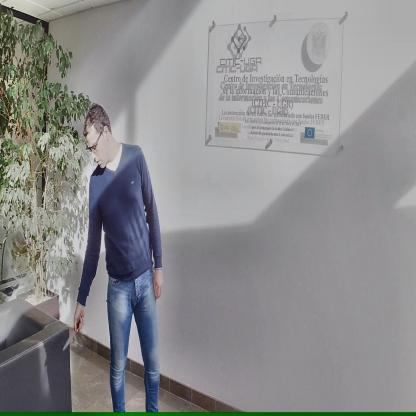knife: (60, 312, 84, 354)
